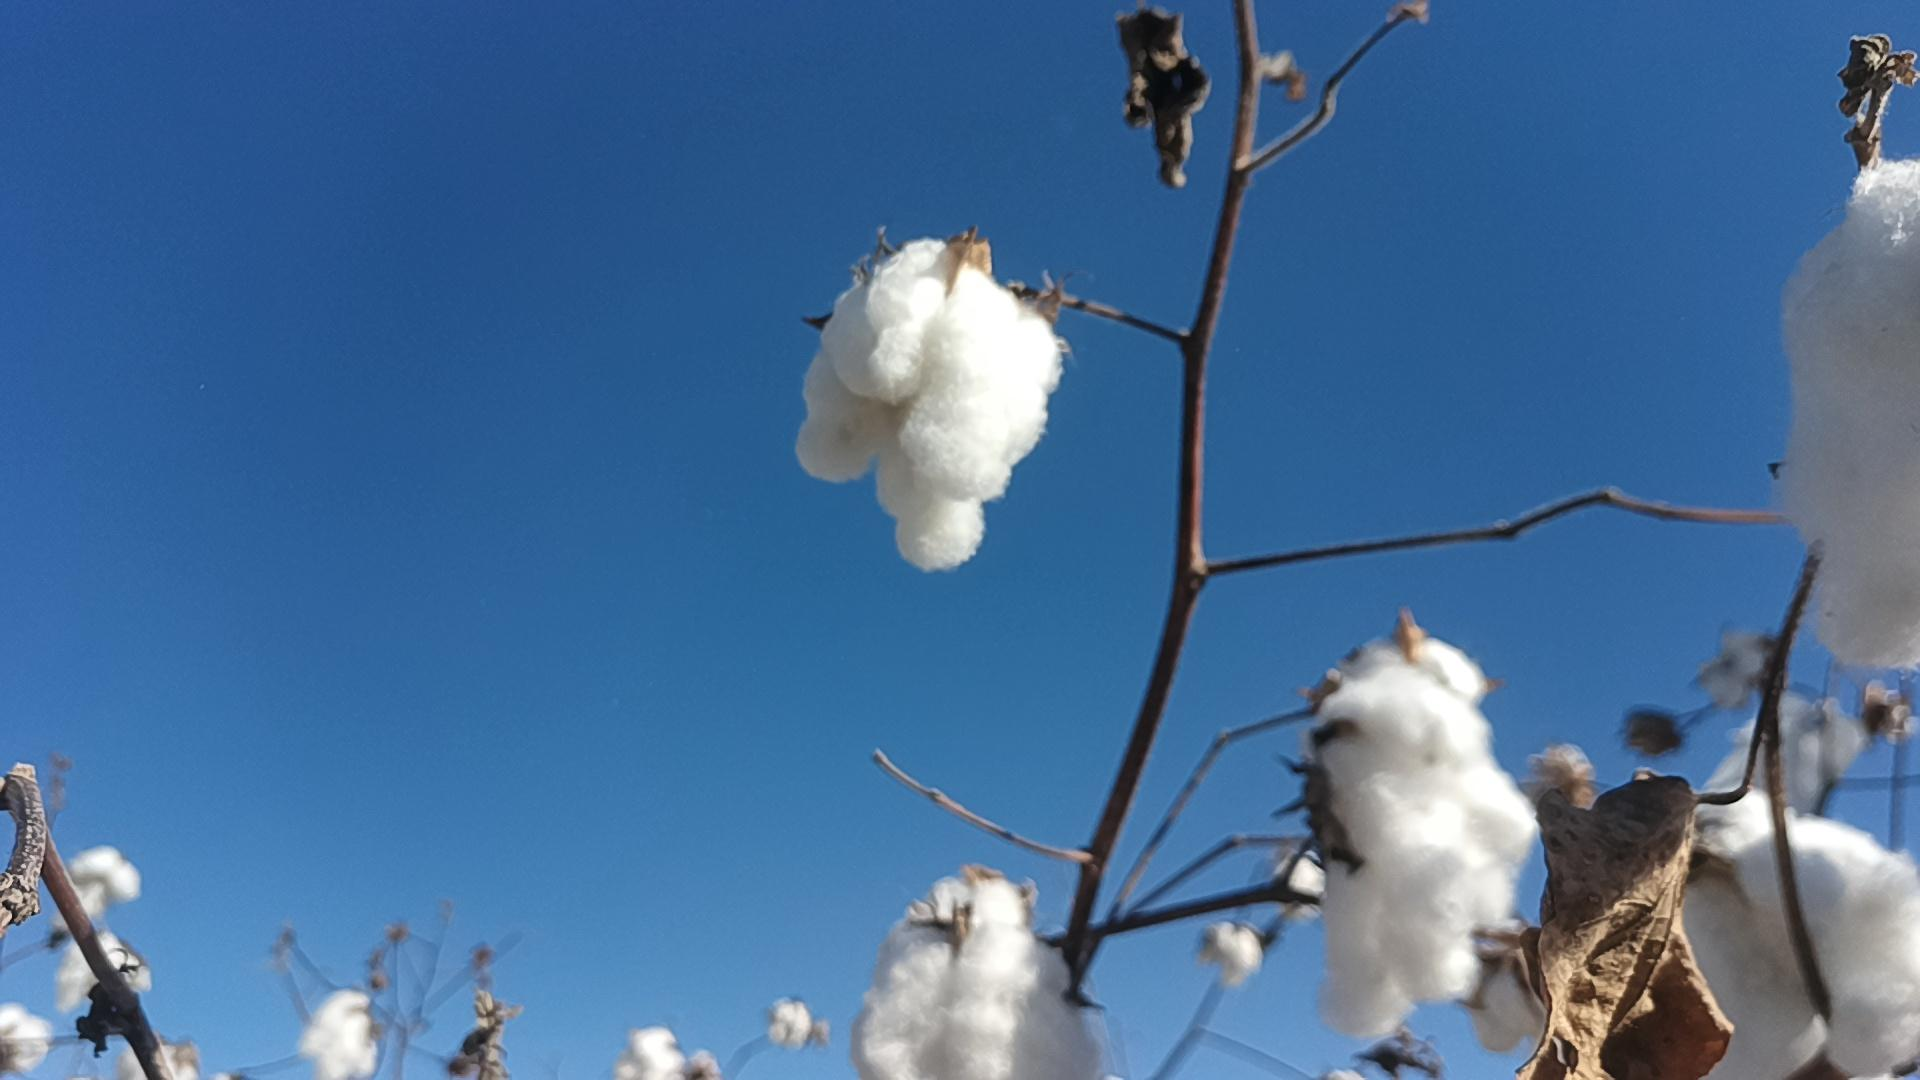cotton_ready: (798, 241, 1058, 568), (1313, 669, 1543, 1036), (1778, 158, 1920, 675), (1676, 786, 1920, 1080), (849, 874, 1101, 1080)
